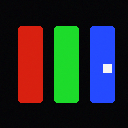1 square: (103, 64, 111, 72)
